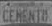0: (42, 10, 48, 22)
C: (2, 9, 9, 23)
E: (22, 8, 28, 24), (9, 8, 15, 23)
M: (16, 8, 22, 23)
N: (28, 9, 35, 23)
T: (36, 8, 42, 23)
